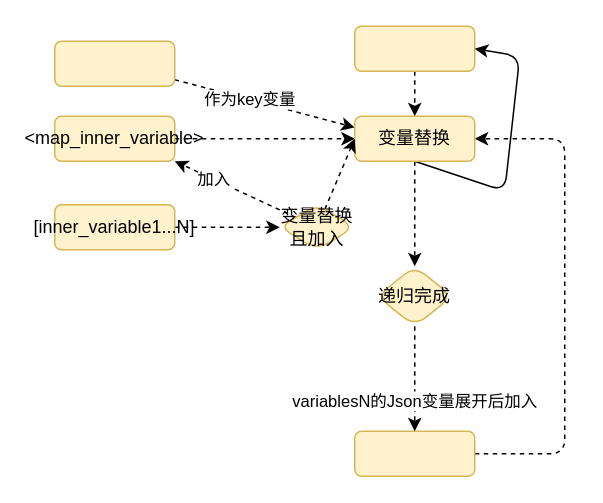
This 603x503 diagram has some shape labels left out. The centre of each missing label's shape, as x and y in pixels:
<case_name>: the point at 114,63
<map_customized_variable>: the point at 414,453
<map_variable>: the point at 414,48
